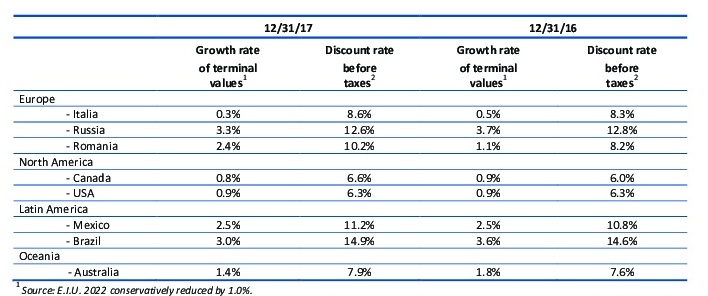table: (0, 0, 708, 296)
